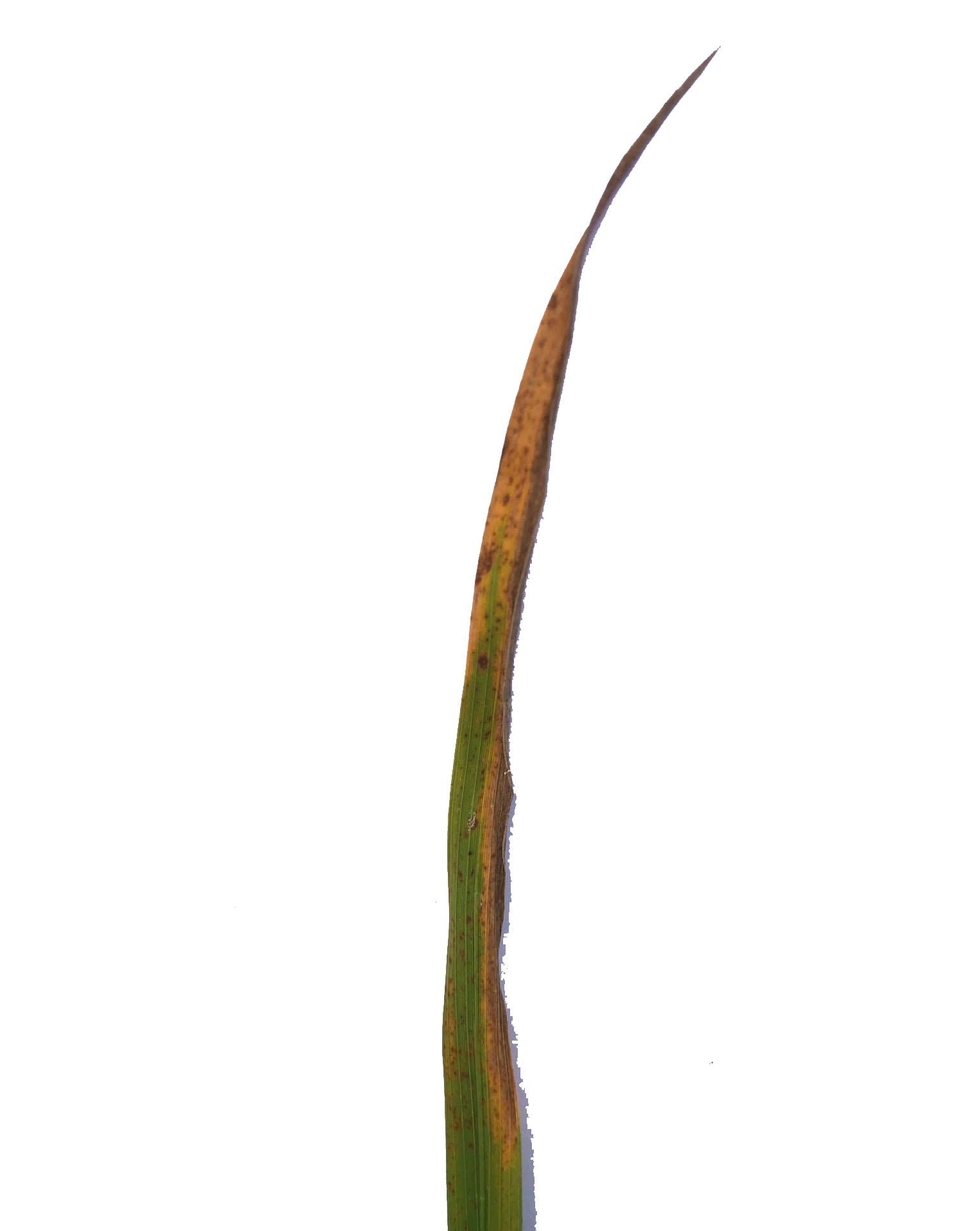Rice blast: (481, 744, 542, 1173)
Tungro: (449, 0, 728, 741)
